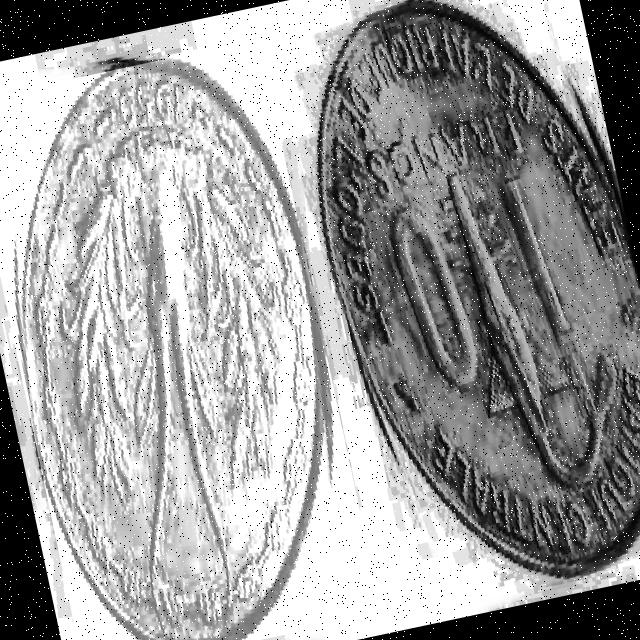niaari derem: (322, 1, 640, 575), (21, 58, 323, 640)
